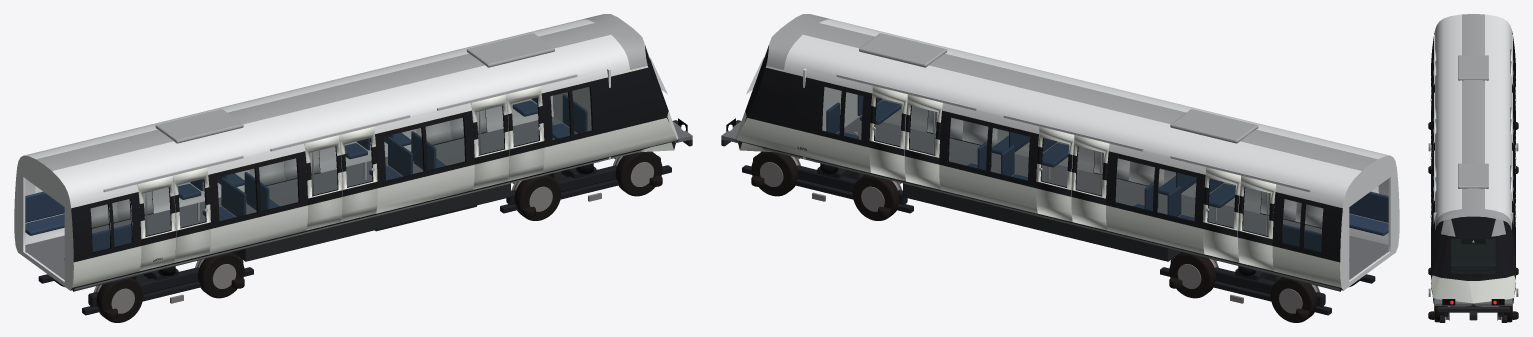
The model's file is mp89_cc_cab.glb.
3 views of the same model, side by side, from view 1: azimuth 30°, elevation 25°; view 2: azimuth 150°, elevation 25°; view 3: azimuth 270°, elevation 25° (orthographic). The views are drawn at different scales.
Visible parts, largest first — view 1: METRO_MP89_CC-L6-6voit_V1_Caisse, METRO_MP89_CC-L6-6voit_V1_BaieG1, METRO_MP89_CC-L6-6voit_V1_PorteD2_AV.002, METRO_MP89_CC-L6-6voit_V1_PorteD1_AV.002, METRO_MP89_CC-L6-6voit_V1_PorteD3_AV.002, METRO_MP89_CC-L6-6voit_V1_PorteD1_AR.002, METRO_MP89_CC-L6-6voit_V1_PorteD2_AR.002, METRO_MP89_CC-L6-6voit_V1_PorteD3_AR.002, METRO_MP89_CC-L6-6voit_V1_PorteD3_AR_Vitre, METRO_MP89_CC-L6-6voit_V1_PorteD1_AV_Vitre, METRO_MP89_CC-L6-6voit_V1_PorteD3_AV_Vitre, METRO_MP89_CC-L6-6voit_V1_PorteD1_AR_Vitre (+5 smaller); view 2: METRO_MP89_CC-L6-6voit_V1_Caisse, METRO_MP89_CC-L6-6voit_V1_BaieG1, METRO_MP89_CC-L6-6voit_V1_PorteG2_AV.002, METRO_MP89_CC-L6-6voit_V1_PorteG1_AV.002, METRO_MP89_CC-L6-6voit_V1_PorteG3_AV.002, METRO_MP89_CC-L6-6voit_V1_PorteG1_AR.002, METRO_MP89_CC-L6-6voit_V1_PorteG2_AR.002, METRO_MP89_CC-L6-6voit_V1_PorteG3_AR.002, METRO_MP89_CC-L6-6voit_V1_PorteG3_AR_Vitre, METRO_MP89_CC-L6-6voit_V1_PorteG1_AV_Vitre, METRO_MP89_CC-L6-6voit_V1_PorteG3_AV_Vitre, METRO_MP89_CC-L6-6voit_V1_PorteG1_AR_Vitre (+5 smaller); view 3: METRO_MP89_CC-L6-6voit_V1_Caisse, METRO_MP89_CC-L6-6voit_V1_BaieG1, METRO_MP89_CC-L6-6voit_V1_PorteD2_AV.002, METRO_MP89_CC-L6-6voit_V1_PorteG2_AV.002, METRO_MP89_CC-L6-6voit_V1_PorteG1_AV.002, METRO_MP89_CC-L6-6voit_V1_PorteG3_AV.002, METRO_MP89_CC-L6-6voit_V1_PorteD1_AV.002, METRO_MP89_CC-L6-6voit_V1_PorteD3_AV.002, METRO_MP89_CC-L6-6voit_V1_PorteG2_AR.002, METRO_MP89_CC-L6-6voit_V1_PorteG3_AR.002, METRO_MP89_CC-L6-6voit_V1_PorteD2_AR.002, METRO_MP89_CC-L6-6voit_V1_PorteD3_AR.002 (+2 smaller).
Boxes of the visible parts, x1=… form: METRO_MP89_CC-L6-6voit_V1_Caisse: x1=14, y1=14, x2=692, y2=322; METRO_MP89_CC-L6-6voit_V1_BaieG1: x1=35, y1=58, x2=667, y2=252; METRO_MP89_CC-L6-6voit_V1_PorteD2_AV.002: x1=339, y1=126, x2=377, y2=221; METRO_MP89_CC-L6-6voit_V1_PorteD1_AV.002: x1=506, y1=86, x2=544, y2=181; METRO_MP89_CC-L6-6voit_V1_PorteD3_AV.002: x1=173, y1=167, x2=210, y2=262; METRO_MP89_CC-L6-6voit_V1_PorteD1_AR.002: x1=471, y1=94, x2=509, y2=189; METRO_MP89_CC-L6-6voit_V1_PorteD2_AR.002: x1=304, y1=135, x2=342, y2=230; METRO_MP89_CC-L6-6voit_V1_PorteD3_AR.002: x1=137, y1=175, x2=175, y2=271; METRO_MP89_CC-L6-6voit_V1_PorteD3_AR_Vitre: x1=143, y1=188, x2=170, y2=235; METRO_MP89_CC-L6-6voit_V1_PorteD1_AV_Vitre: x1=511, y1=98, x2=538, y2=145; METRO_MP89_CC-L6-6voit_V1_PorteD3_AV_Vitre: x1=178, y1=179, x2=205, y2=227; METRO_MP89_CC-L6-6voit_V1_PorteD1_AR_Vitre: x1=476, y1=106, x2=503, y2=154; METRO_MP89_CC-L6-6voit_V1_Caisse: x1=721, y1=14, x2=1399, y2=322; METRO_MP89_CC-L6-6voit_V1_BaieG1: x1=746, y1=58, x2=1378, y2=252; METRO_MP89_CC-L6-6voit_V1_PorteG2_AV.002: x1=1036, y1=126, x2=1074, y2=221; METRO_MP89_CC-L6-6voit_V1_PorteG1_AV.002: x1=869, y1=86, x2=907, y2=181; METRO_MP89_CC-L6-6voit_V1_PorteG3_AV.002: x1=1203, y1=167, x2=1240, y2=262; METRO_MP89_CC-L6-6voit_V1_PorteG1_AR.002: x1=904, y1=94, x2=942, y2=189; METRO_MP89_CC-L6-6voit_V1_PorteG2_AR.002: x1=1071, y1=135, x2=1109, y2=230; METRO_MP89_CC-L6-6voit_V1_PorteG3_AR.002: x1=1238, y1=175, x2=1276, y2=271; METRO_MP89_CC-L6-6voit_V1_PorteG3_AR_Vitre: x1=1243, y1=188, x2=1270, y2=235; METRO_MP89_CC-L6-6voit_V1_PorteG1_AV_Vitre: x1=875, y1=98, x2=902, y2=145; METRO_MP89_CC-L6-6voit_V1_PorteG3_AV_Vitre: x1=1208, y1=179, x2=1235, y2=227; METRO_MP89_CC-L6-6voit_V1_PorteG1_AR_Vitre: x1=910, y1=106, x2=937, y2=154; METRO_MP89_CC-L6-6voit_V1_Caisse: x1=1428, y1=14, x2=1518, y2=322; METRO_MP89_CC-L6-6voit_V1_BaieG1: x1=1433, y1=97, x2=1513, y2=273; METRO_MP89_CC-L6-6voit_V1_PorteD2_AV.002: x1=1431, y1=119, x2=1436, y2=168; METRO_MP89_CC-L6-6voit_V1_PorteG2_AV.002: x1=1510, y1=119, x2=1515, y2=172; METRO_MP89_CC-L6-6voit_V1_PorteG1_AV.002: x1=1510, y1=177, x2=1515, y2=226; METRO_MP89_CC-L6-6voit_V1_PorteG3_AV.002: x1=1510, y1=61, x2=1515, y2=110; METRO_MP89_CC-L6-6voit_V1_PorteD1_AV.002: x1=1431, y1=177, x2=1436, y2=226; METRO_MP89_CC-L6-6voit_V1_PorteD3_AV.002: x1=1431, y1=61, x2=1436, y2=110; METRO_MP89_CC-L6-6voit_V1_PorteG2_AR.002: x1=1510, y1=107, x2=1515, y2=156; METRO_MP89_CC-L6-6voit_V1_PorteG3_AR.002: x1=1510, y1=49, x2=1515, y2=98; METRO_MP89_CC-L6-6voit_V1_PorteD2_AR.002: x1=1431, y1=107, x2=1436, y2=156; METRO_MP89_CC-L6-6voit_V1_PorteD3_AR.002: x1=1431, y1=49, x2=1436, y2=98.
Bounding box in the file's own units: 15.05 × 3.47 × 2.6.
Materials: 9 (9 with a texture image).
